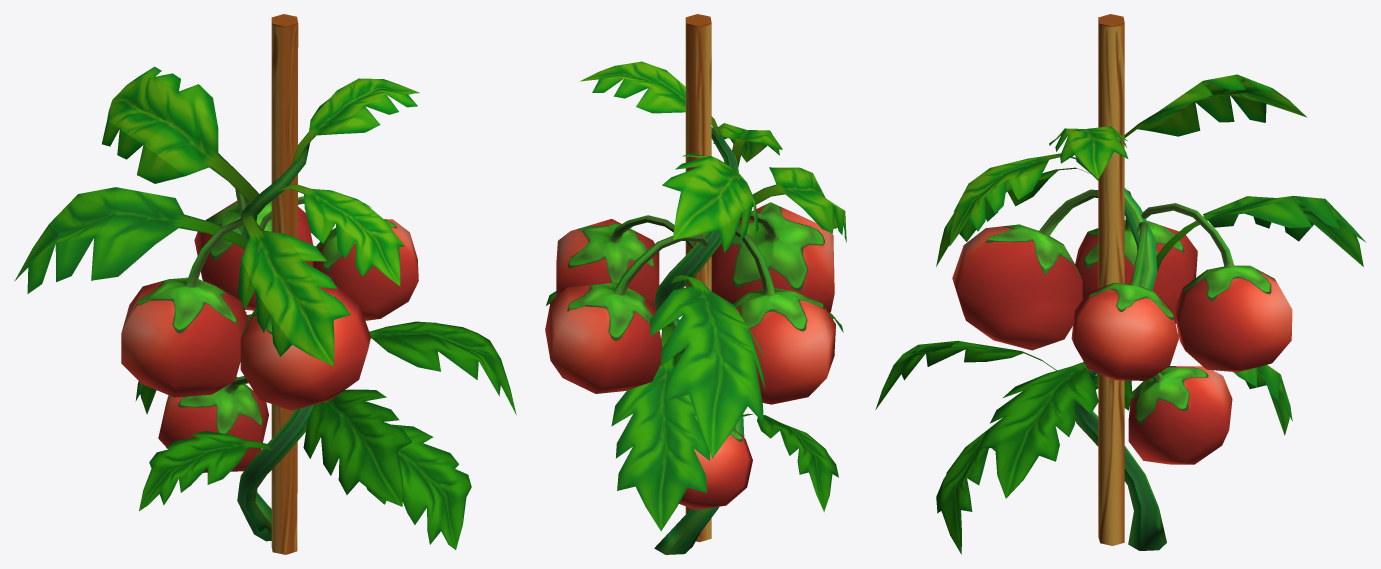
File: level_5.glb
3 renders of one model, left to right at view 1: azimuth 30°, elevation 25°; view 2: azimuth 150°, elevation 25°; view 3: azimuth 270°, elevation 25°, orthographic. The views are drawn at different scales.
Parts seen in each view (by area): view 1: SM_Tomato_Lv3_Tomato_SG_0; view 2: SM_Tomato_Lv3_Tomato_SG_0; view 3: SM_Tomato_Lv3_Tomato_SG_0.
Boxes of the visible parts, box(x1,y1,x2,y2) form: SM_Tomato_Lv3_Tomato_SG_0: box(14, 14, 516, 554); SM_Tomato_Lv3_Tomato_SG_0: box(545, 14, 846, 554); SM_Tomato_Lv3_Tomato_SG_0: box(875, 14, 1366, 554).
Size of the model in its own units: 32.62 by 47.48 by 40.68.
1 material, 1 textured.
